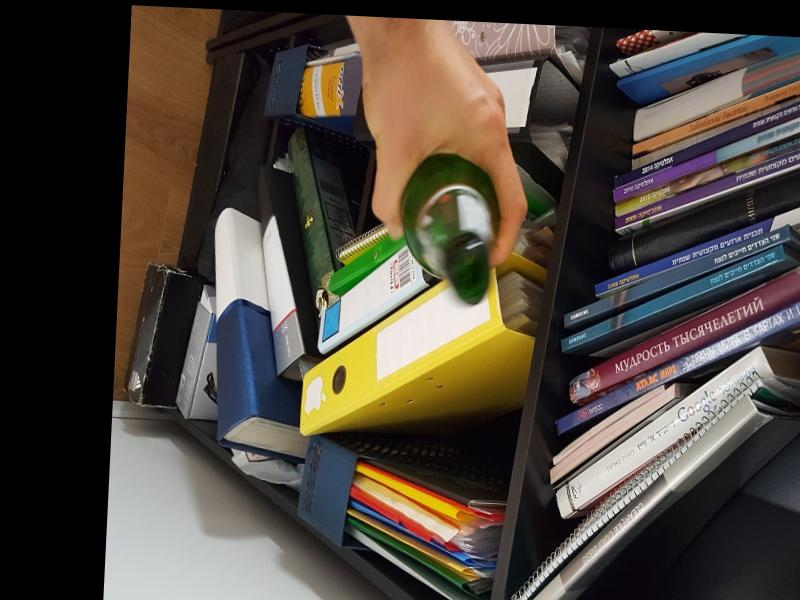Beer: (396, 151, 501, 305)
